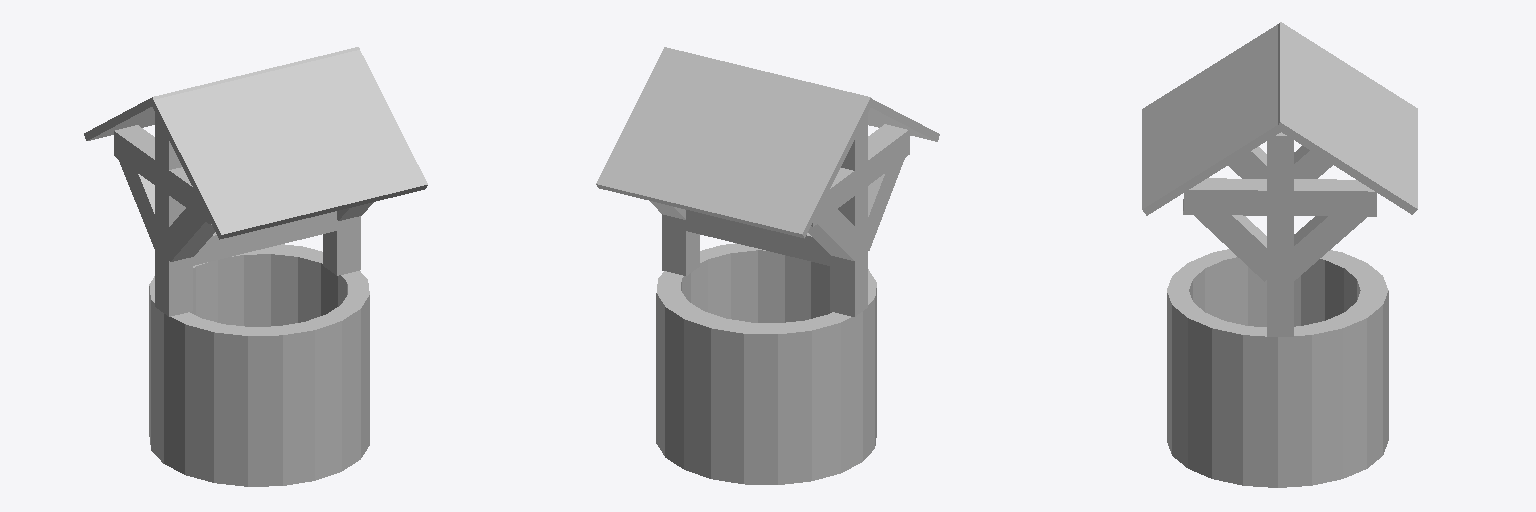
Rendered from new_well.obj.
3 renders of one model, left to right at view 1: azimuth 30°, elevation 25°; view 2: azimuth 150°, elevation 25°; view 3: azimuth 270°, elevation 25°, orthographic.
Parts seen in each view (by area): view 1: Smashing_Kasi-Blorr_(1); view 2: Smashing_Kasi-Blorr_(1); view 3: Smashing_Kasi-Blorr_(1).
Boxes of the visible parts, box(x1,y1,x2,y2) form: Smashing_Kasi-Blorr_(1): box(84, 47, 427, 486); Smashing_Kasi-Blorr_(1): box(596, 47, 939, 484); Smashing_Kasi-Blorr_(1): box(1142, 22, 1417, 487).
Size of the model in its own units: 43 by 73.25 by 49.68.